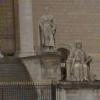Statue: (33, 5, 62, 55)
